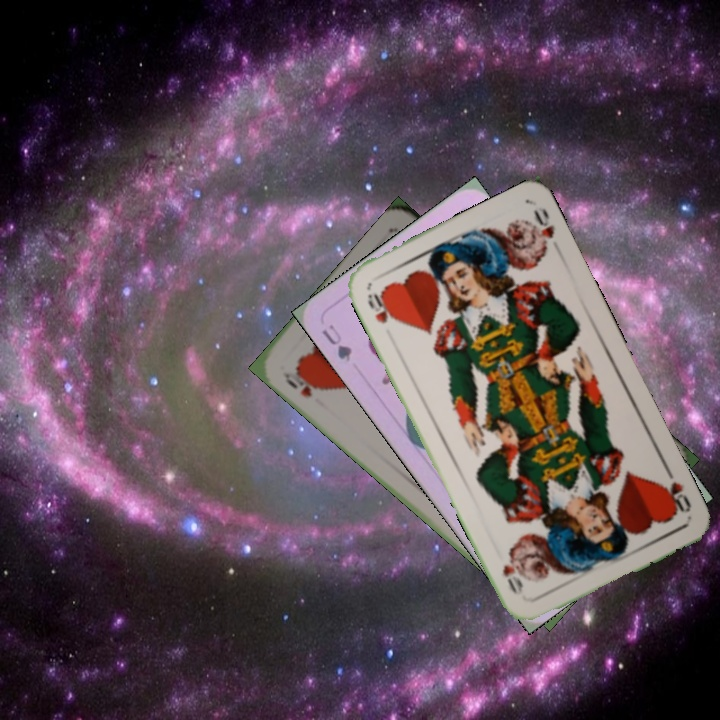GU: (317, 320, 355, 365)
HO: (657, 462, 694, 517), (279, 364, 326, 400), (363, 287, 399, 326)
